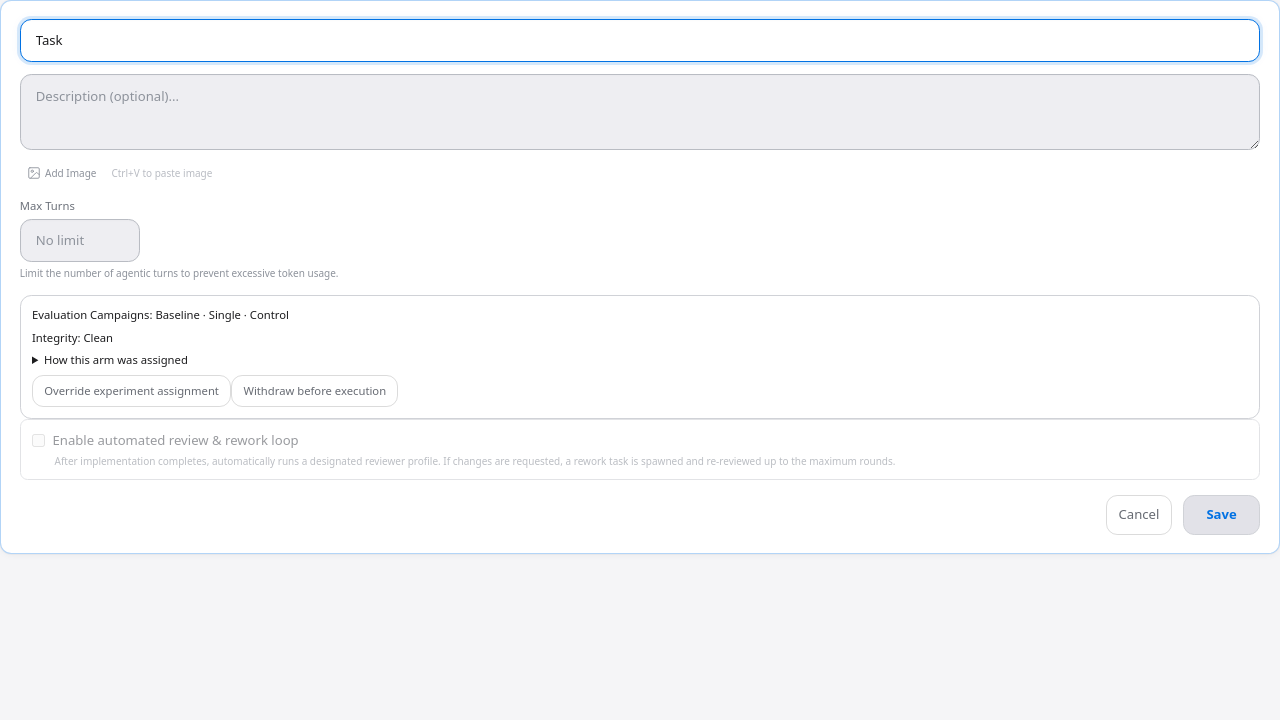
Scenario: evaluation campaign UX › withdrawal unlocks review fields, and feedback is unavailable before review
The width and height of the screenshot is (1280, 720).
Click the button "Withdraw before execution".
click(315, 391)  # box [231, 375, 398, 407]
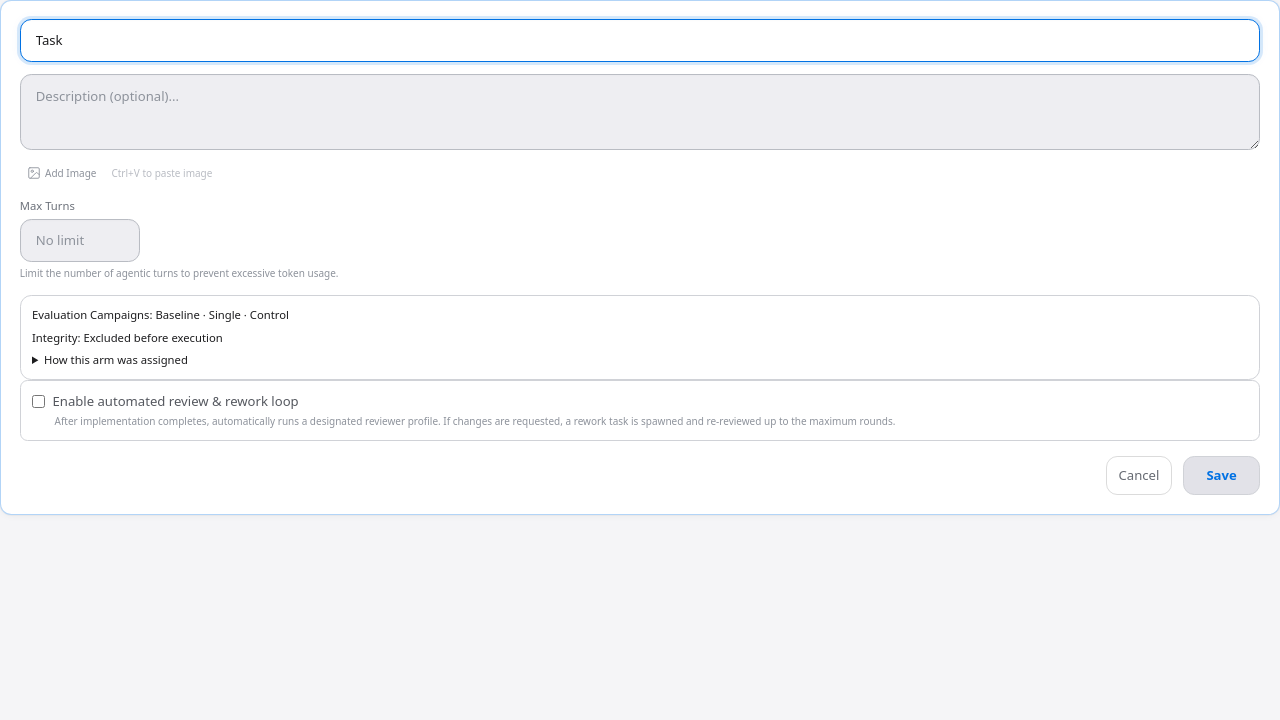
Now the element that starts with "Enable automated review & rework loop" is enabled, box [20, 380, 1260, 440]
